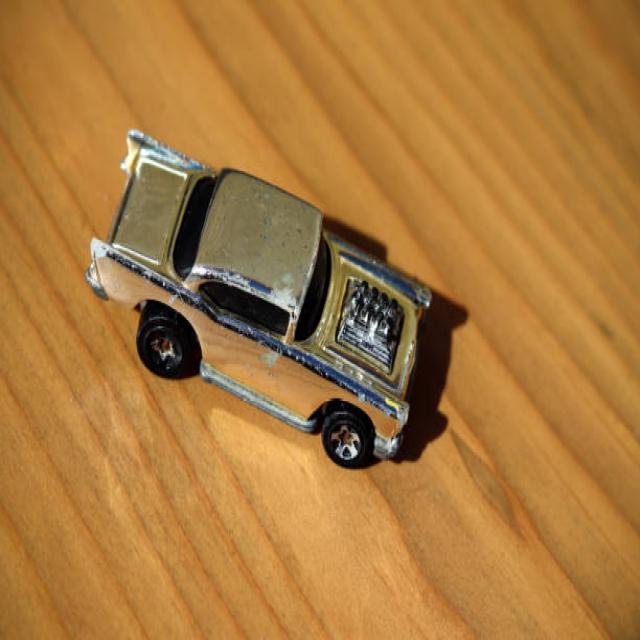Car: (84, 127, 433, 469)
